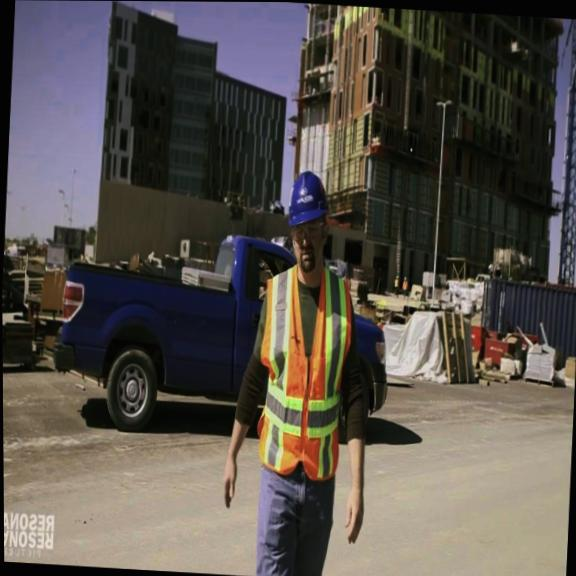safety_vest: (255, 258, 359, 482)
